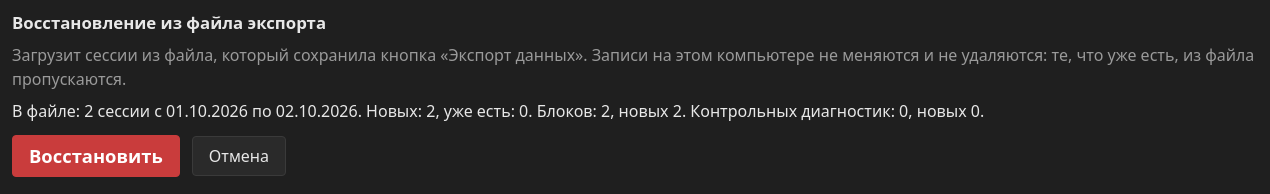
Test case: RestoreSection › «Отмена» goes back to the start and writes nothing
The width and height of the screenshot is (1270, 194).
Earlier steps of the test are not shown.
Click the button "Отмена". click: (239, 156)
box: [192,136,286,176]
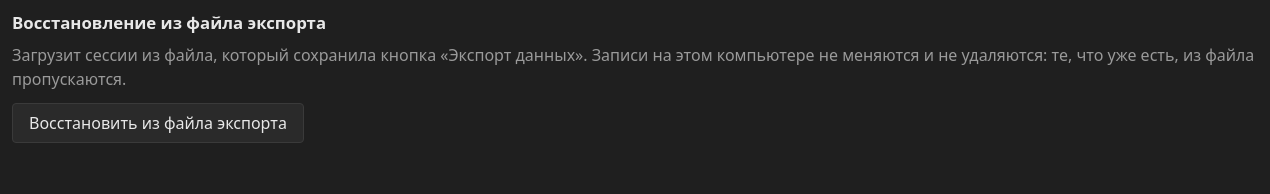
Check: the button "Восстановить из файла экспорта" is enabled, box [12,103,304,143]
Check: the text "В файле:" is gone
